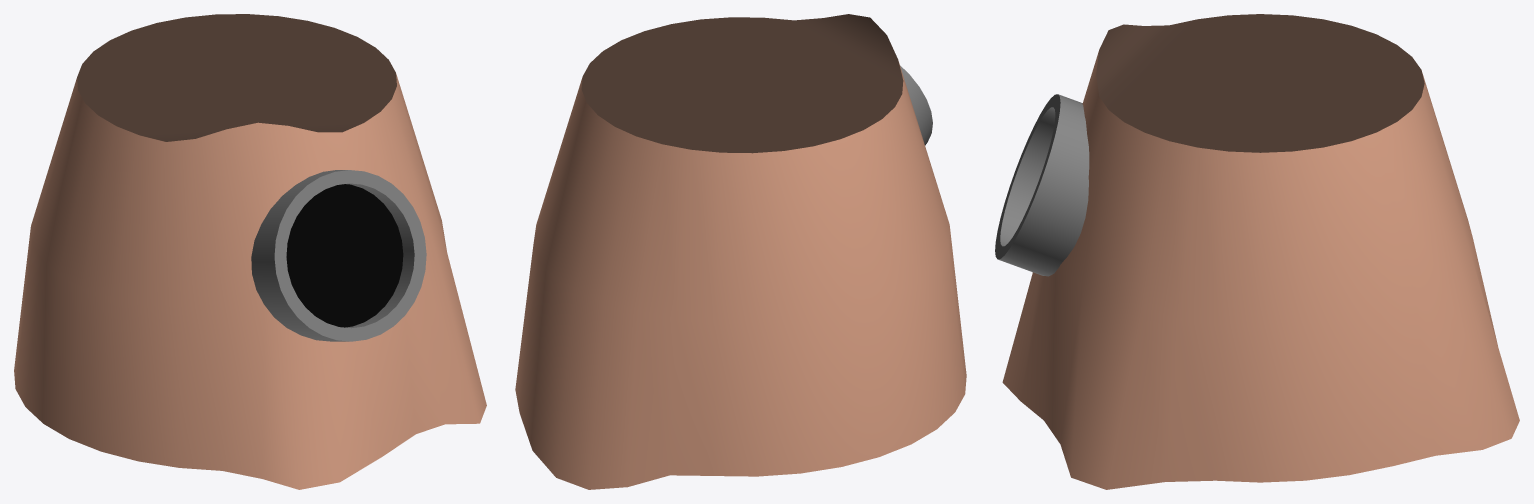
Rendered from Trunk.fbx.
The picture shows the model from 3 angles, left to right: view 1: azimuth 30°, elevation 25°; view 2: azimuth 150°, elevation 25°; view 3: azimuth 270°, elevation 25°; orthographic projection. The views are drawn at different scales.
Visible parts, largest first — view 1: Trunk; view 2: Trunk; view 3: Trunk.
Boxes of the visible parts, x1=… form: Trunk: x1=14, y1=14, x2=486, y2=489; Trunk: x1=515, y1=14, x2=966, y2=489; Trunk: x1=995, y1=14, x2=1519, y2=489.
Bounding box in the file's own units: 279 × 236 × 319.
